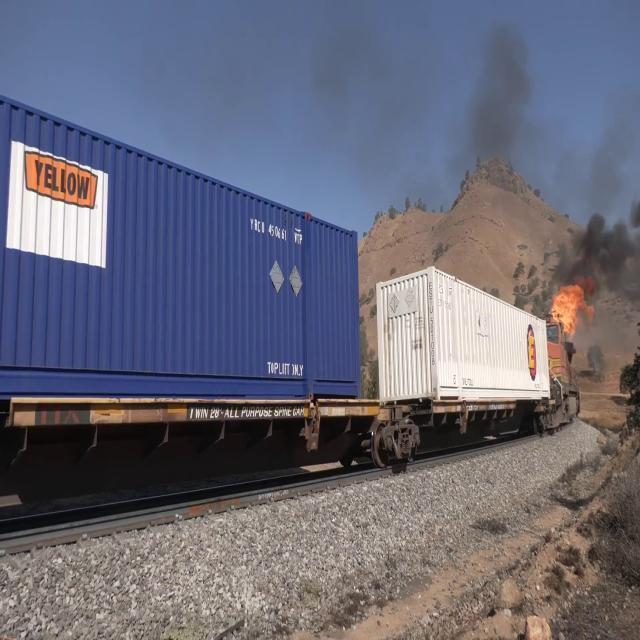Fire: (549, 280, 580, 336)
Smoke: (582, 206, 639, 281), (473, 43, 511, 153)
